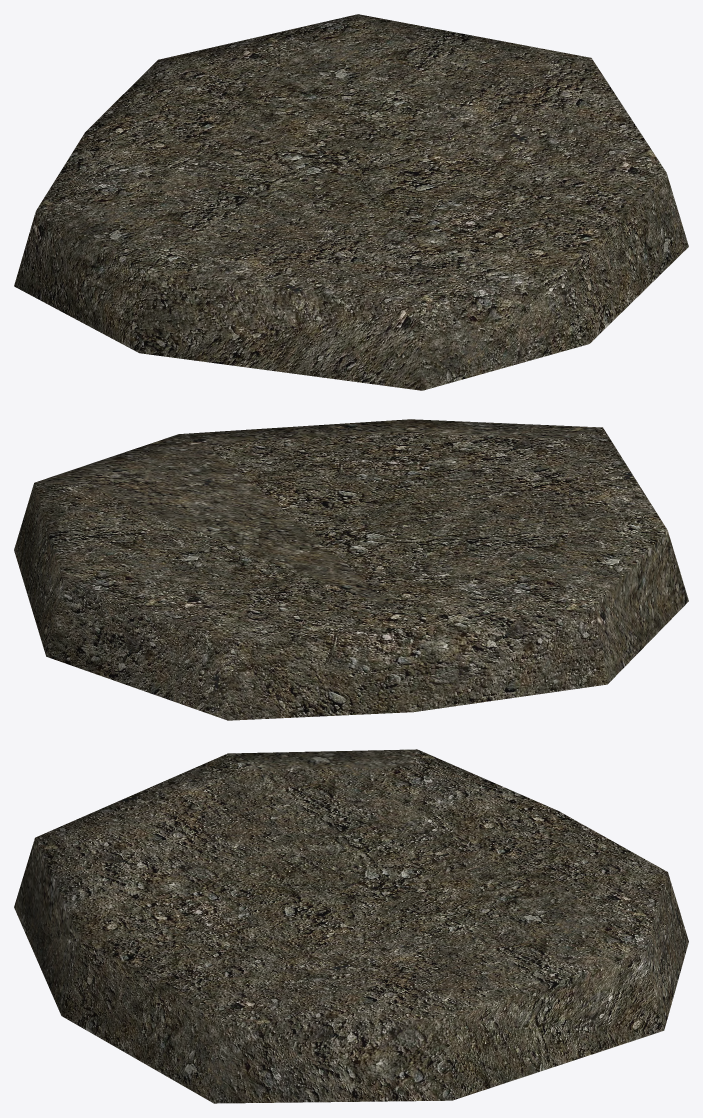
File: KM_VOB_GROUND_01.glb
3 renders of one model, top to bottom at view 1: azimuth 30°, elevation 25°; view 2: azimuth 150°, elevation 25°; view 3: azimuth 270°, elevation 25°, orthographic. The views are drawn at different scales.
Visible parts, largest first — view 1: Mesh; view 2: Mesh; view 3: Mesh.
Part boxes in pixels (<box>): Mesh: <box>14,14,688,390</box>; Mesh: <box>14,419,688,720</box>; Mesh: <box>14,749,688,1103</box>.
Size of the model in its own units: 4.91 by 0.7864 by 4.82.
Materials: 1 (1 with a texture image).
